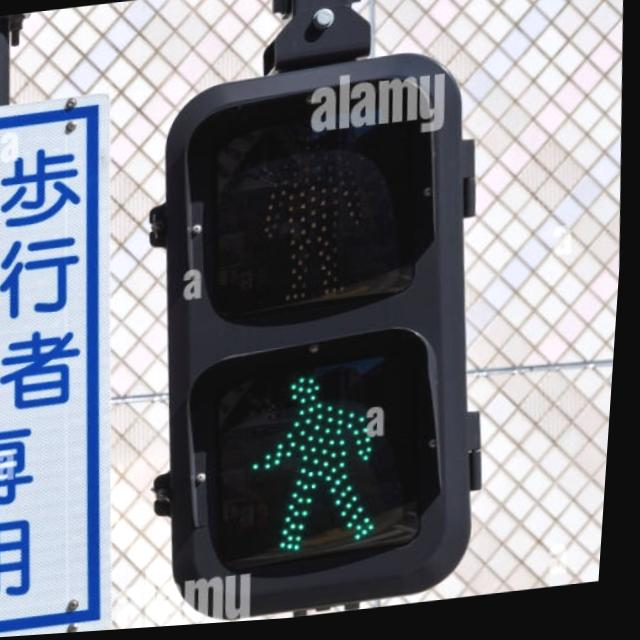green_light: (249, 369, 388, 562)
